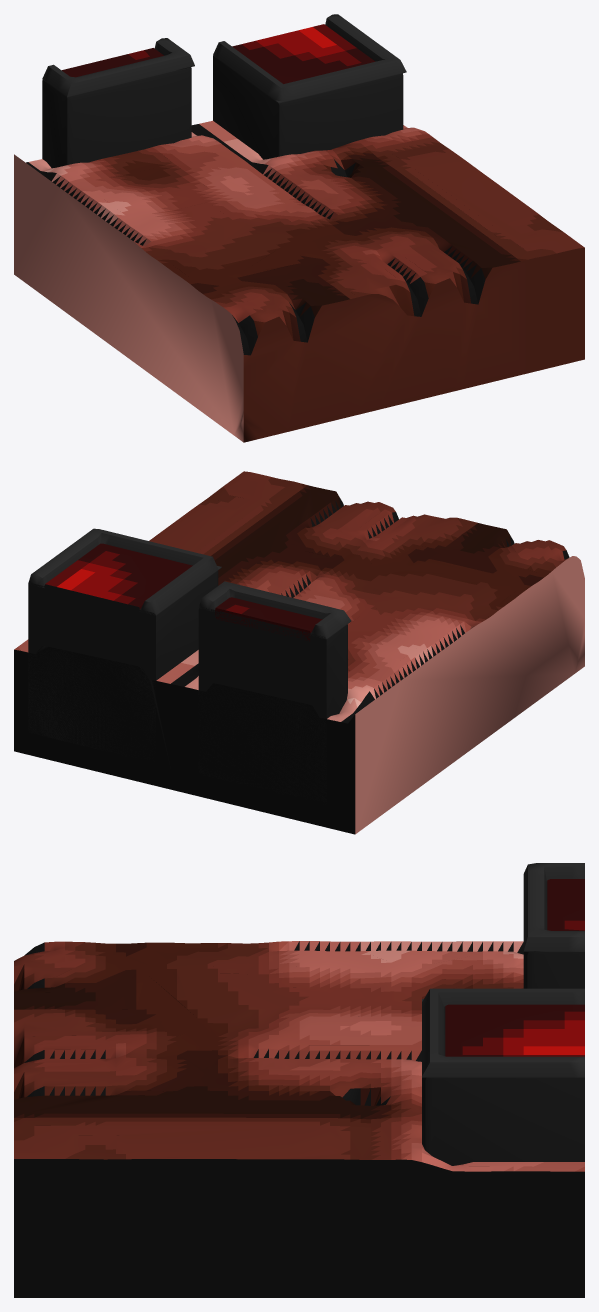
The model's file is savara_boss_199.glb.
3 renders of one model, top to bottom at view 1: azimuth 30°, elevation 25°; view 2: azimuth 150°, elevation 25°; view 3: azimuth 270°, elevation 25°, orthographic. The views are drawn at different scales.
Visible parts, largest first — view 1: savara_boss_199_hull; view 2: savara_boss_199_hull; view 3: savara_boss_199_hull.
Boxes of the visible parts, x1,y1,x2,y2 form: savara_boss_199_hull: (14, 14, 584, 442); savara_boss_199_hull: (14, 471, 584, 834); savara_boss_199_hull: (14, 863, 584, 1297).
Bounding box in the file's own units: 24 × 13.45 × 28.
